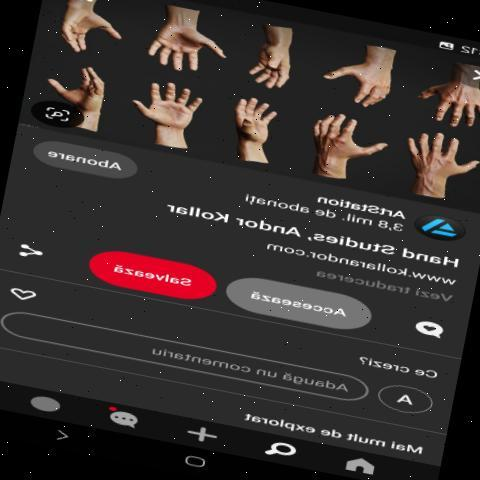Hands: (134, 10, 229, 74), (122, 81, 211, 144), (303, 112, 395, 170), (310, 55, 404, 107), (41, 6, 126, 61), (214, 92, 286, 155), (398, 131, 476, 185), (44, 64, 111, 116), (237, 38, 303, 87)
